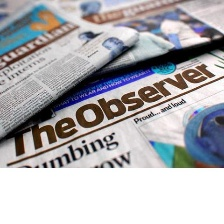news_paper: (0, 44, 224, 169), (0, 0, 146, 140), (44, 0, 224, 78)
